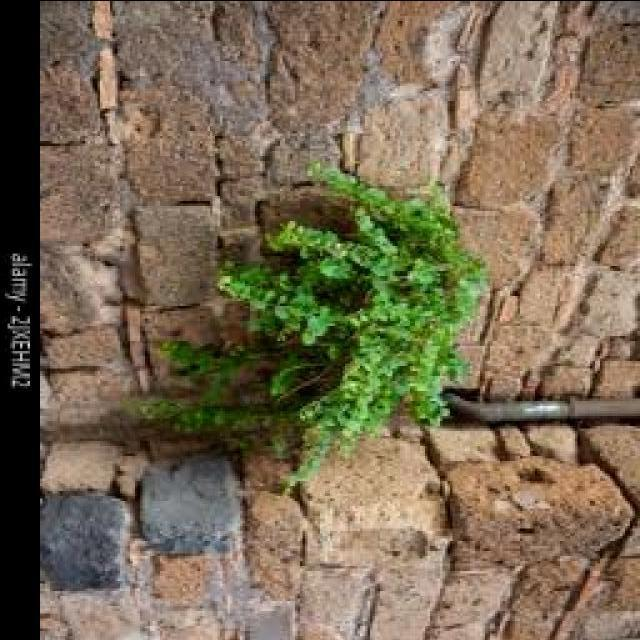Crack: (40, 1, 638, 637)
leak: (439, 387, 639, 425)
